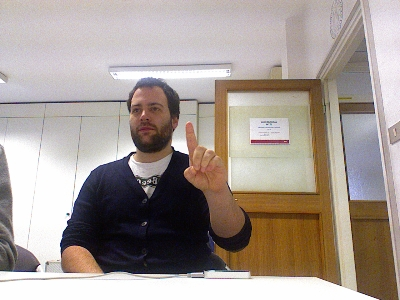食指: (182, 119, 228, 192)
